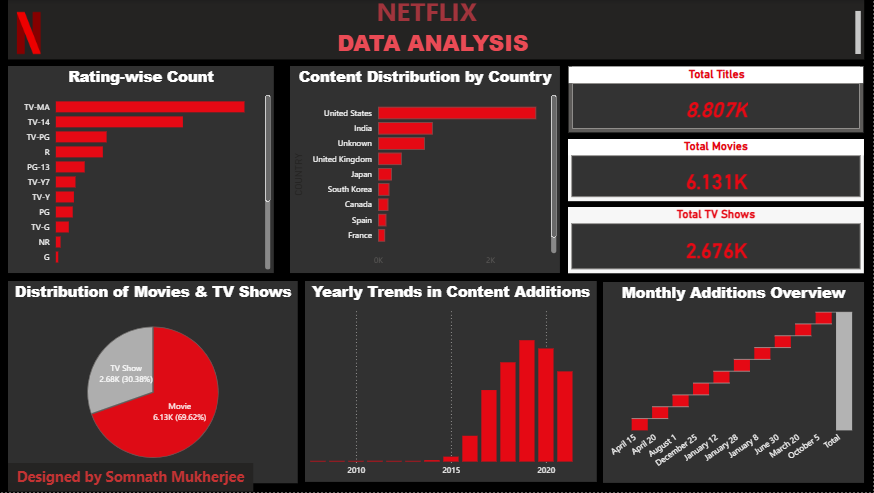

What the dashboard file says about the page in this screenshot:
{"tool":"powerbi","page":{"name":"Page 1","canvas":[1280,720],"ordinal":0},"visuals":[{"type":"pieChart","title":"Distribution of Movies & TV Shows","fields":{"Category":["netflix_titles.TYPE"],"Y":["CountNonNull(netflix_titles.SHOW_ID)"]},"box":[12.9,411.4,424.3,295.7],"z":0},{"type":"clusteredColumnChart","title":"Yearly Trends in Content Additions","fields":{"Y":["CountNonNull(netflix_titles.SHOW_ID)"],"Category":["netflix_titles.YEAR"]},"box":[447.1,411.4,427.1,294.3],"z":1000},{"type":"barChart","title":"Content Distribution by Country","fields":{"Category":["netflix_titles.COUNTRY"],"Y":["CountNonNull(netflix_titles.SHOW_ID)"]},"box":[425.9,96.6,395.1,302.9],"z":2000},{"type":"waterfallChart","title":"Monthly Additions Overview","fields":{"Category":["netflix_titles.MONTH"],"Y":["CountNonNull(netflix_titles.SHOW_ID)"]},"box":[883.9,412.7,382,294.1],"z":3000},{"type":"barChart","title":"Rating-wise Count","fields":{"Category":["netflix_titles.RATING"],"Y":["CountNonNull(netflix_titles.SHOW_ID)"]},"box":[13.2,96.6,389.3,302.9],"z":4000},{"type":"textbox","box":[12.9,0,1252.9,87.1],"z":5000},{"type":"image","box":[0,8.8,87.8,79],"z":6000},{"type":"cardVisual","title":"Total Titles","fields":{"Data":["CountNonNull(netflix_titles.SHOW_ID)"]},"box":[832.7,96.6,433.2,98],"z":7000},{"type":"cardVisual","title":"Total Movies","fields":{"Data":["CountNonNull(netflix_titles.TYPE)"]},"box":[832.7,203.4,433.2,90.7],"z":8000},{"type":"cardVisual","title":"Total TV Shows","fields":{"Data":["CountNonNull(netflix_titles.TYPE)"]},"box":[832.7,302.9,433.2,96.6],"z":9000},{"type":"textbox","box":[13.2,677.6,358.5,42.4],"z":10000}]}

Visuals, with their boxes in screenshot pixels (x1, y1, x2, y2), scaled from the page's 1280x720 canvas onto the 874x493 screenshot:
"Distribution of Movies & TV Shows" pieChart: (left=9, top=282, right=299, bottom=484)
"Yearly Trends in Content Additions" clusteredColumnChart: (left=305, top=282, right=597, bottom=483)
"Content Distribution by Country" barChart: (left=291, top=66, right=561, bottom=274)
"Monthly Additions Overview" waterfallChart: (left=604, top=283, right=864, bottom=484)
"Rating-wise Count" barChart: (left=9, top=66, right=275, bottom=274)
textbox: (left=9, top=0, right=864, bottom=60)
image: (left=0, top=6, right=60, bottom=60)
"Total Titles" cardVisual: (left=569, top=66, right=864, bottom=133)
"Total Movies" cardVisual: (left=569, top=139, right=864, bottom=201)
"Total TV Shows" cardVisual: (left=569, top=207, right=864, bottom=274)
textbox: (left=9, top=464, right=254, bottom=492)
